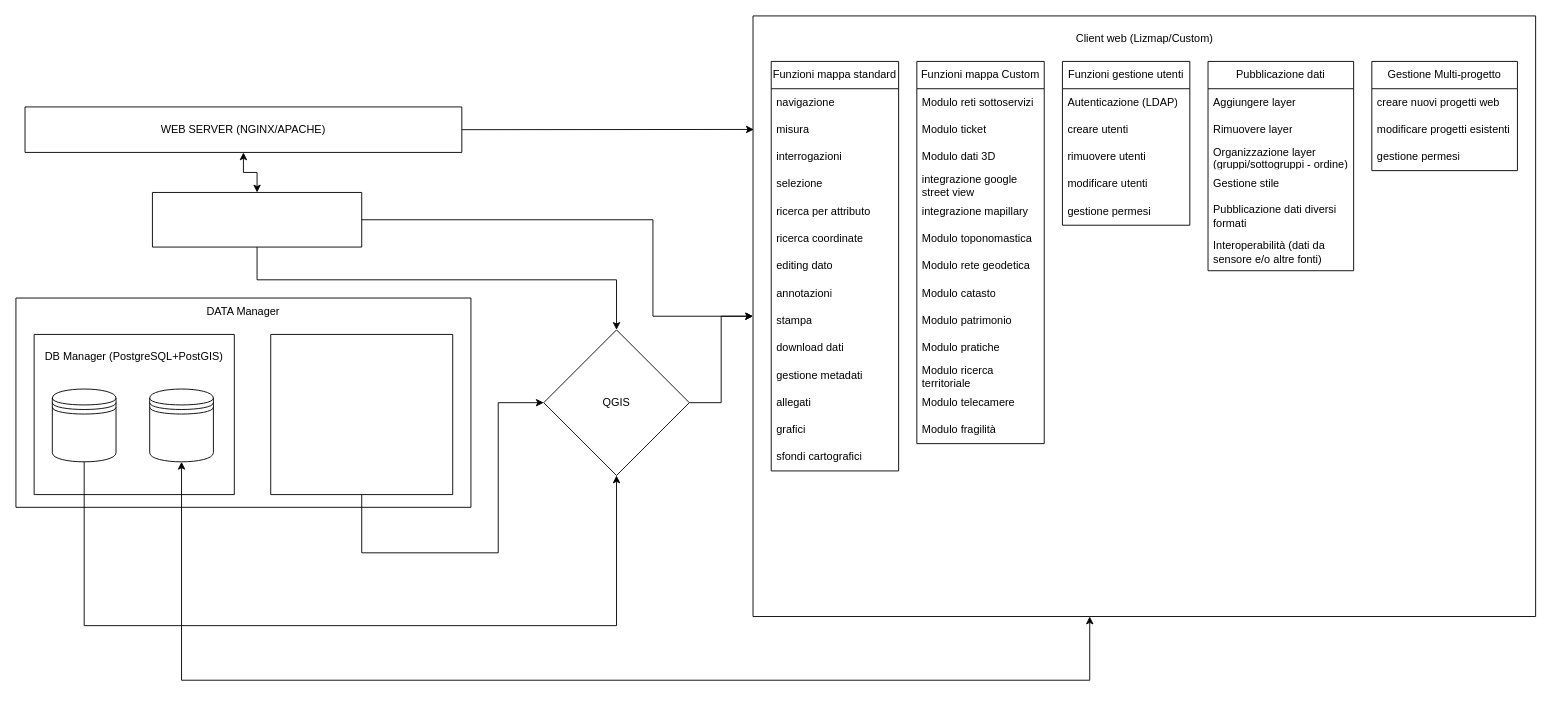
This 1552x704 diagram has some shape labels left out. The centre of each missing label's shape, as x and y in pixels:
"Data Storage (Nextcloud)" belongs at point (361, 414).
"DB dati" belongs at point (83, 425).
"DB user" belongs at point (181, 425).
"Web Server Geografico (QGIS Server)" belongs at point (257, 219).
